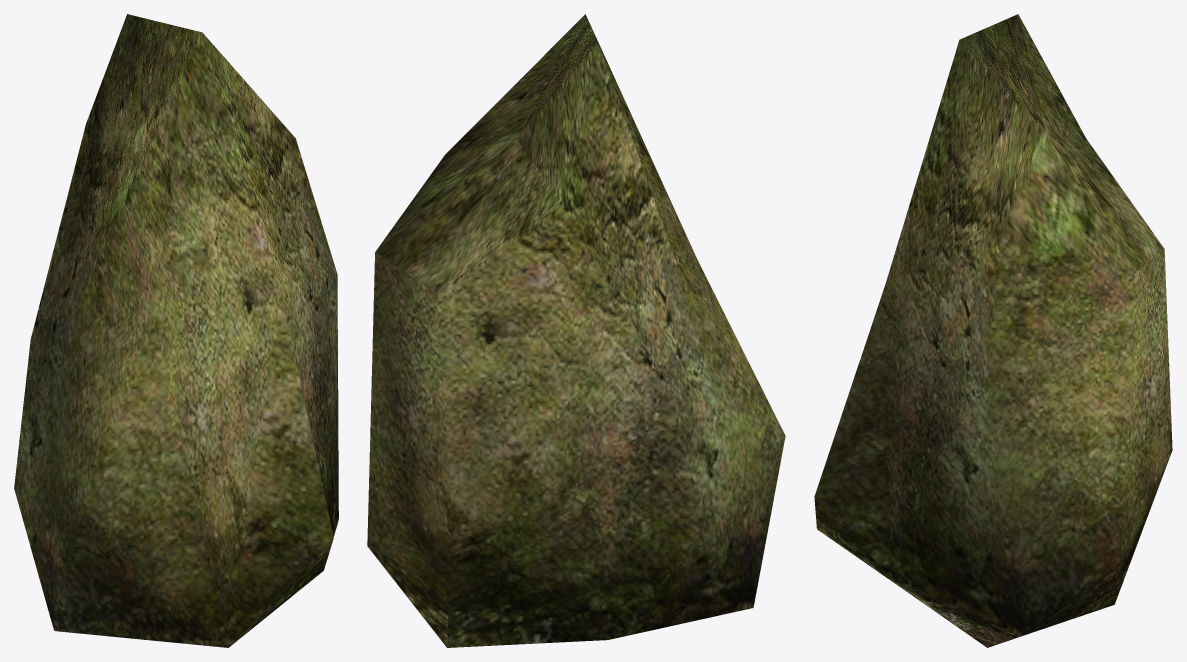
File: rock_endr_mossyrock_lg_l3.fbx
3 views of the same model, side by side, from view 1: azimuth 30°, elevation 25°; view 2: azimuth 150°, elevation 25°; view 3: azimuth 270°, elevation 25° (orthographic). The views are drawn at different scales.
Parts seen in each view (by area): view 1: mesh_node; view 2: mesh_node; view 3: mesh_node.
Part boxes in pixels (bbox=[...]): mesh_node: bbox=[14, 14, 338, 647]; mesh_node: bbox=[367, 14, 785, 647]; mesh_node: bbox=[814, 14, 1172, 647].
Bounding box in the file's own units: 1.52 × 2.76 × 1.53.
